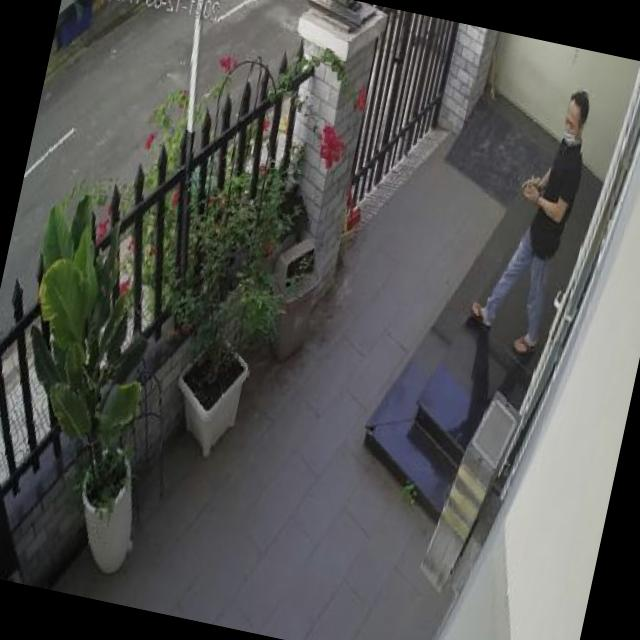Person: (462, 78, 600, 360)
